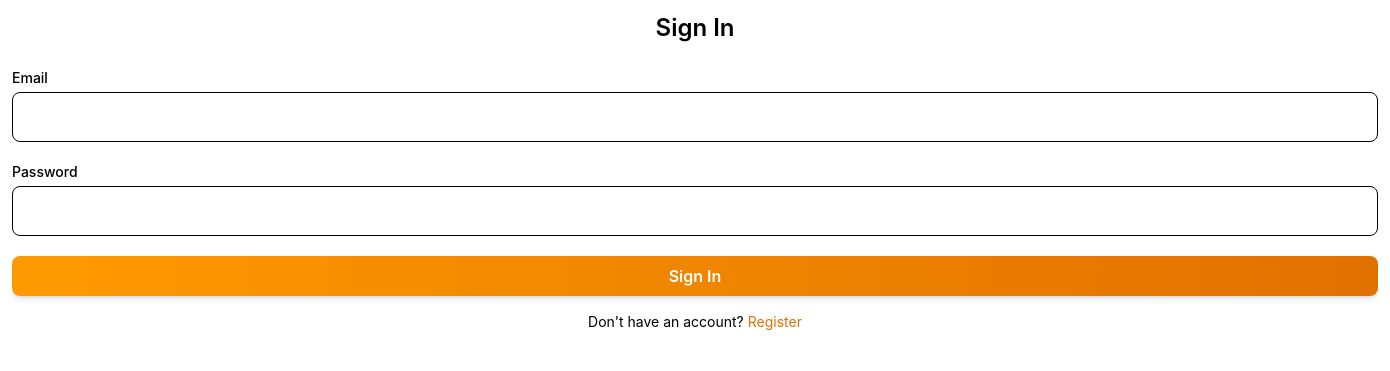
Scenario: Login › Form validation › shows error for empty password
Type "test@example.com" into the field labelled "Email".
click(695, 117); type("test@example.com")  # box [12,92,1378,142]
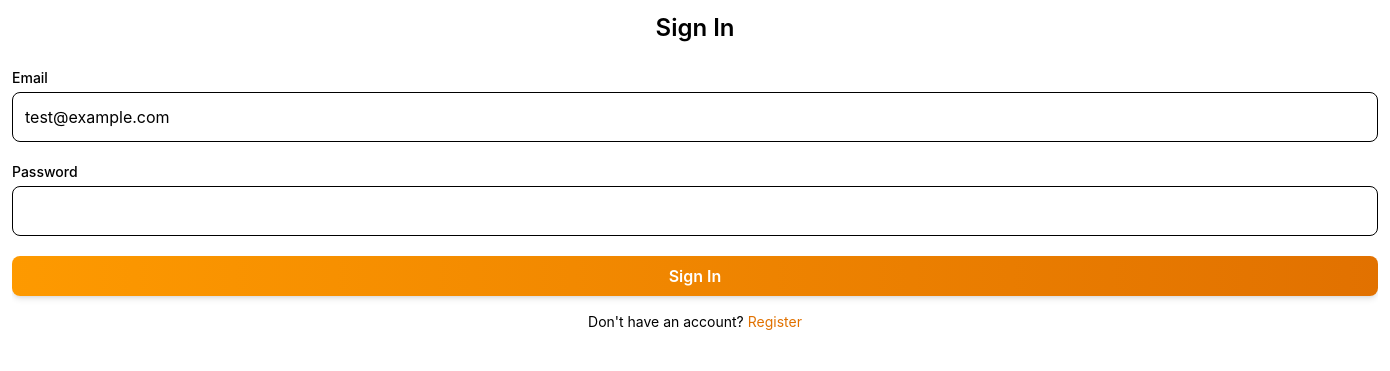
Click the button "Sign In".
click(695, 276)  # box [12,256,1378,296]
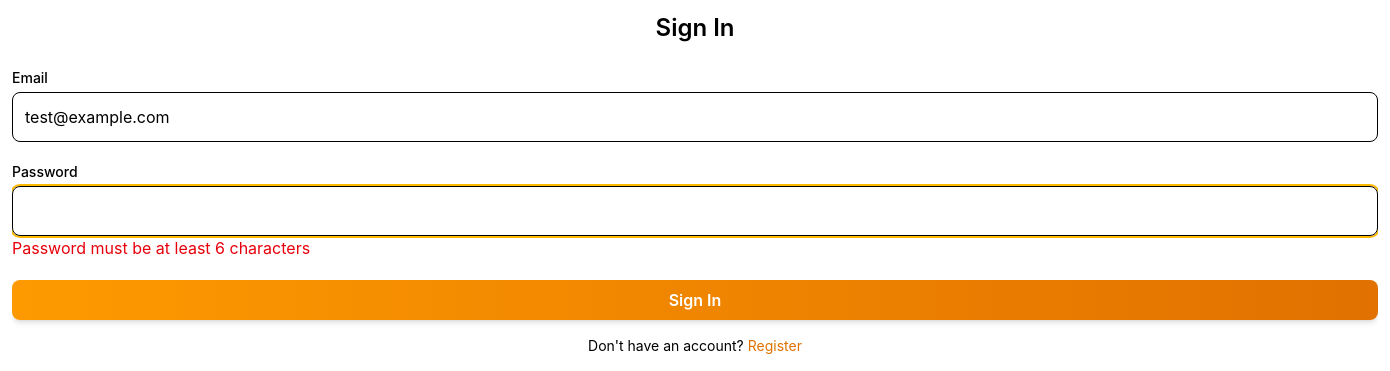
Expected: the text "Password must be at least 6 characters" is shown, [12,238,310,258]
